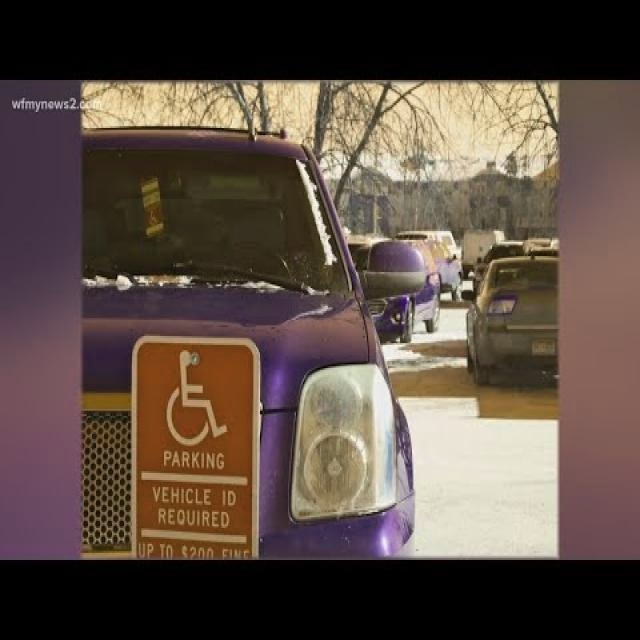ISA: (159, 343, 230, 454)
